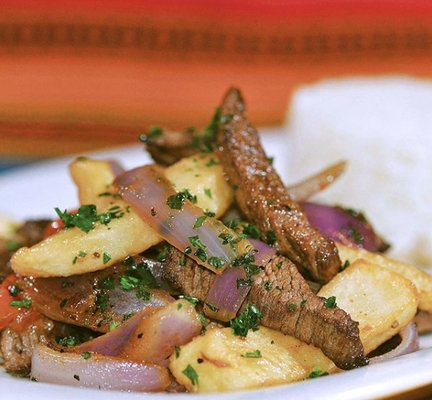curry: (54, 204, 127, 232)
